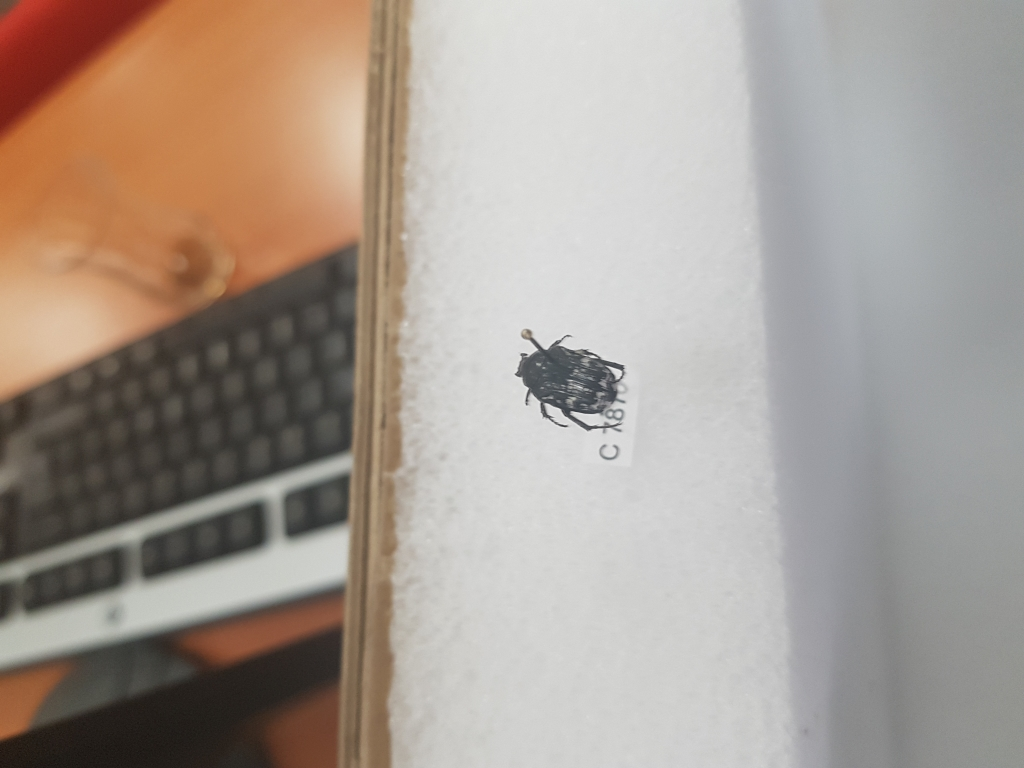Oxythyrea_albopicta: (513, 330, 627, 440)
